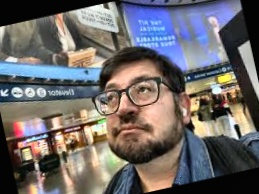earphone: (174, 91, 195, 125)
